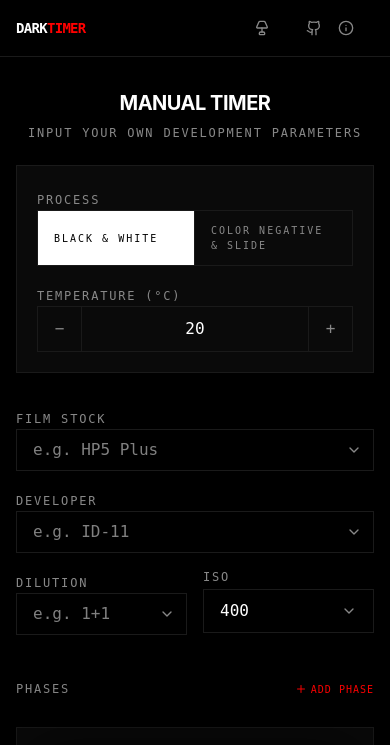
Test: App › shows an iPhone portrait safety tip when safelight mode is enabled
This screenshot has width=390, height=745.
Step 1. Click the button named "Switch to safelight theme" → [268, 28], box x1=246 y1=6 x2=290 y2=50
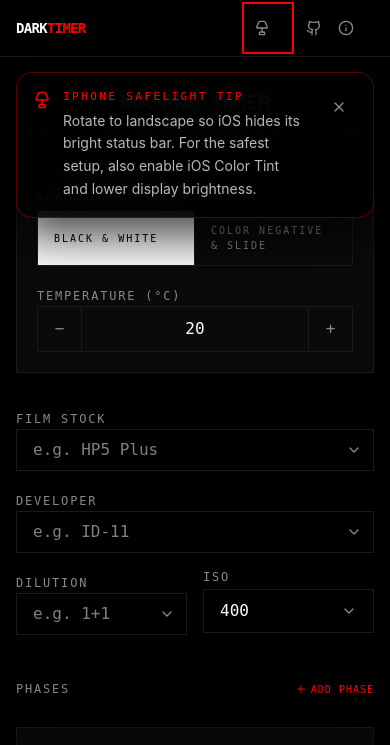
Expected: the text "iPhone safelight tip" is shown, x1=63 y1=90 x2=244 y2=103
Expected: the text "Rotate to landscape so iOS hides its bright status bar" is shown, x1=63 y1=112 x2=300 y2=197
Step 2. Click the button named "Dismiss iPhone safelight tip" → [339, 107], box x1=317 y1=85 x2=361 y2=129
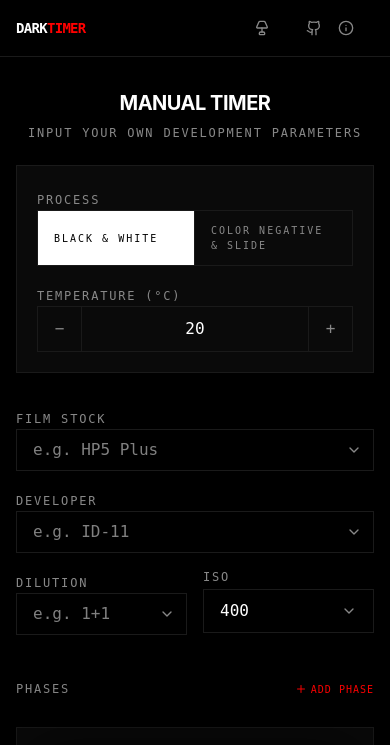
Expected: the text "iPhone safelight tip" is gone
